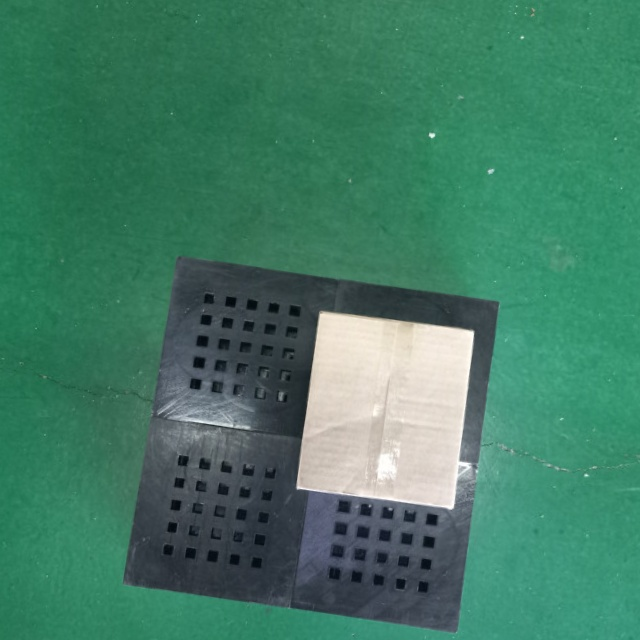box: (289, 304, 480, 517)
pallet: (115, 250, 507, 636)
